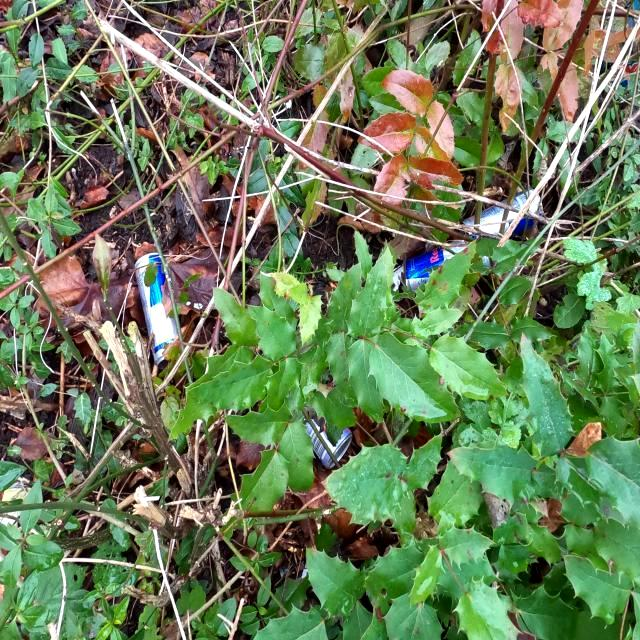Metal: (134, 252, 182, 366), (402, 234, 492, 292), (458, 187, 544, 239), (301, 392, 353, 470)
